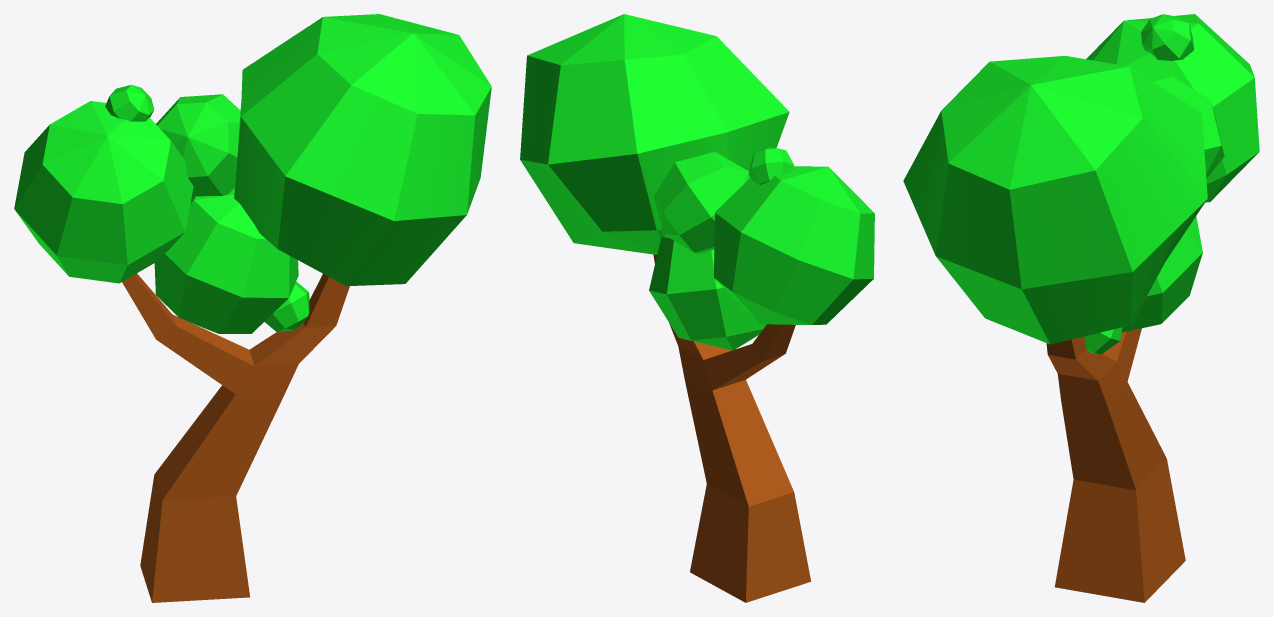
Rendered from Low_Poly_Tree_GLTF.glb.
3 renders of one model, left to right at view 1: azimuth 30°, elevation 25°; view 2: azimuth 150°, elevation 25°; view 3: azimuth 270°, elevation 25°, orthographic. The views are drawn at different scales.
Parts seen in each view (by area): view 1: polySurface9, Wood Branch, polySurface3, polySurface7, polySurface5, polySurface1, polySurface11; view 2: polySurface9, Wood Branch, polySurface3, polySurface7, polySurface5, polySurface1; view 3: polySurface9, Wood Branch, polySurface3, polySurface7, polySurface1, polySurface5, polySurface11.
Boxes of the visible parts, left/top/right/bottom form: polySurface9: left=234, top=14, right=491, bottom=286; Wood Branch: left=122, top=273, right=349, bottom=602; polySurface3: left=14, top=101, right=193, bottom=283; polySurface7: left=154, top=187, right=298, bottom=333; polySurface5: left=156, top=94, right=240, bottom=199; polySurface1: left=105, top=84, right=154, bottom=121; polySurface11: left=264, top=281, right=309, bottom=332; polySurface9: left=520, top=14, right=789, bottom=254; Wood Branch: left=653, top=254, right=810, bottom=602; polySurface3: left=714, top=166, right=874, bottom=324; polySurface7: left=649, top=235, right=766, bottom=350; polySurface5: left=653, top=152, right=750, bottom=253; polySurface1: left=748, top=147, right=793, bottom=184; polySurface9: left=903, top=56, right=1207, bottom=344; Wood Branch: left=1046, top=328, right=1185, bottom=602; polySurface3: left=1086, top=14, right=1259, bottom=202; polySurface7: left=1121, top=216, right=1202, bottom=332; polySurface1: left=1141, top=14, right=1194, bottom=60; polySurface5: left=1153, top=77, right=1224, bottom=178; polySurface11: left=1084, top=327, right=1122, bottom=354.
Size of the model in its own units: 0.8912 by 1.14 by 0.6321.
